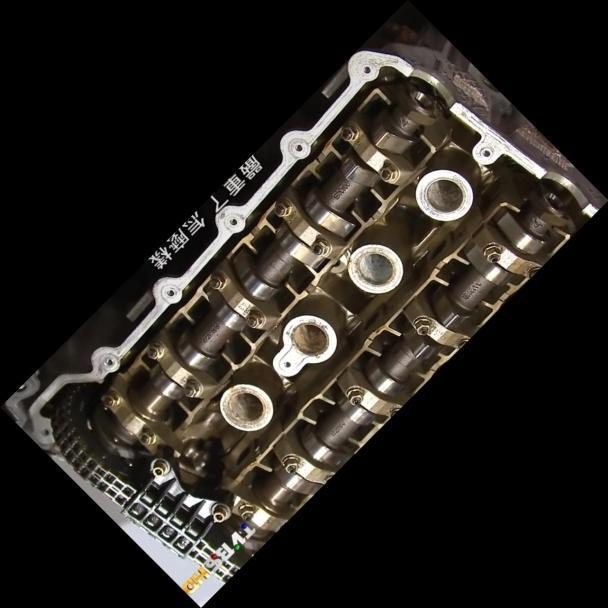hole: (478, 145, 492, 159), (359, 63, 372, 76), (163, 286, 176, 299), (226, 215, 238, 227), (291, 142, 302, 153), (102, 356, 113, 367)
